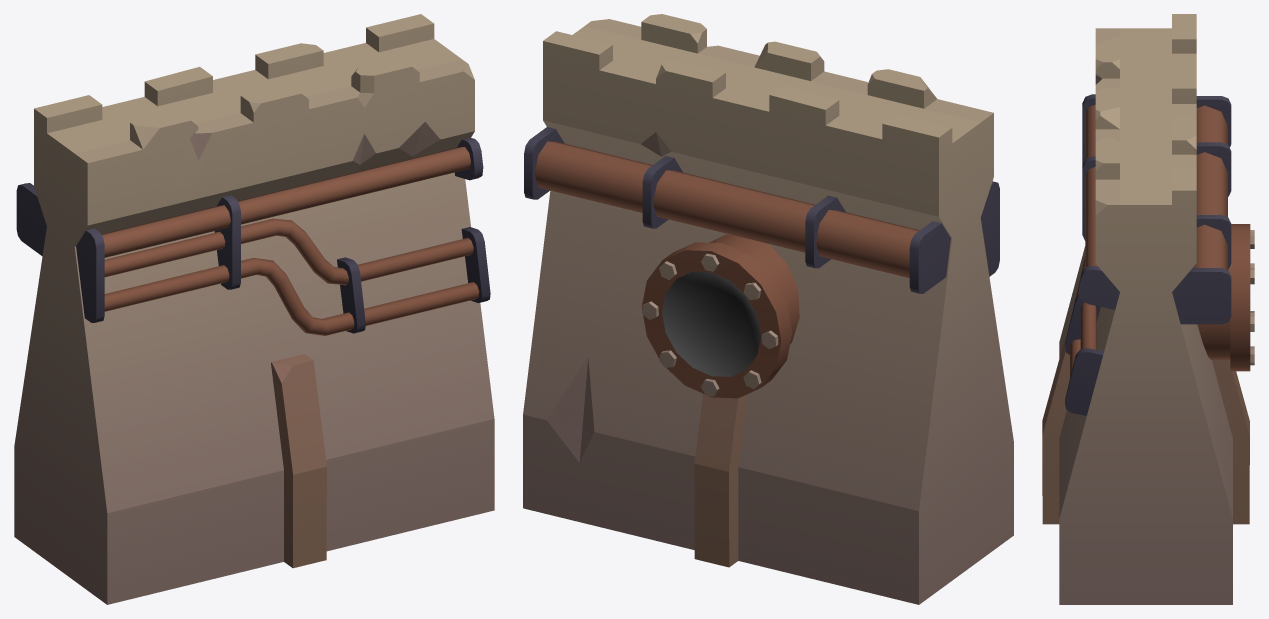
Rendered from WallSection_Medium_01.fbx.
The picture shows the model from 3 angles, left to right: view 1: azimuth 30°, elevation 25°; view 2: azimuth 150°, elevation 25°; view 3: azimuth 270°, elevation 25°; orthographic projection. The views are drawn at different scales.
Visible parts, largest first — view 1: WallSection_Medium_01; view 2: WallSection_Medium_01; view 3: WallSection_Medium_01.
Boxes of the visible parts, box(x1,y1,x2,y2) form: WallSection_Medium_01: box(14, 14, 494, 604); WallSection_Medium_01: box(523, 14, 1013, 604); WallSection_Medium_01: box(1042, 14, 1254, 604).
Size of the model in its own units: 670 by 735 by 340.
